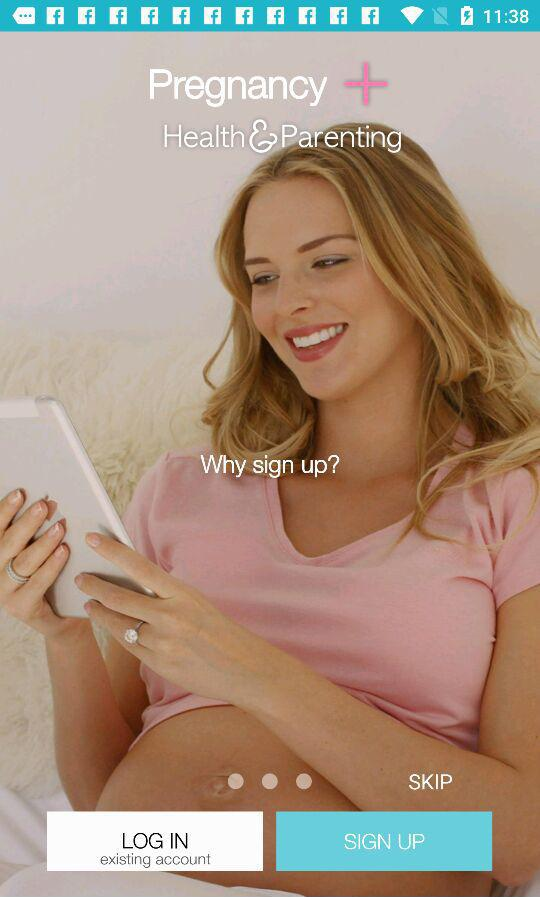BackgroundImage: (1, 33, 540, 897)
Icon: (343, 63, 388, 106)
Image: (164, 119, 402, 155)
PageIndicator: (227, 772, 314, 791)
Text: (150, 69, 329, 109), (200, 454, 341, 479), (408, 773, 453, 791)
TextButton: (47, 811, 264, 872), (276, 811, 492, 872)
UpperTaskBar: (1, 1, 540, 33)
